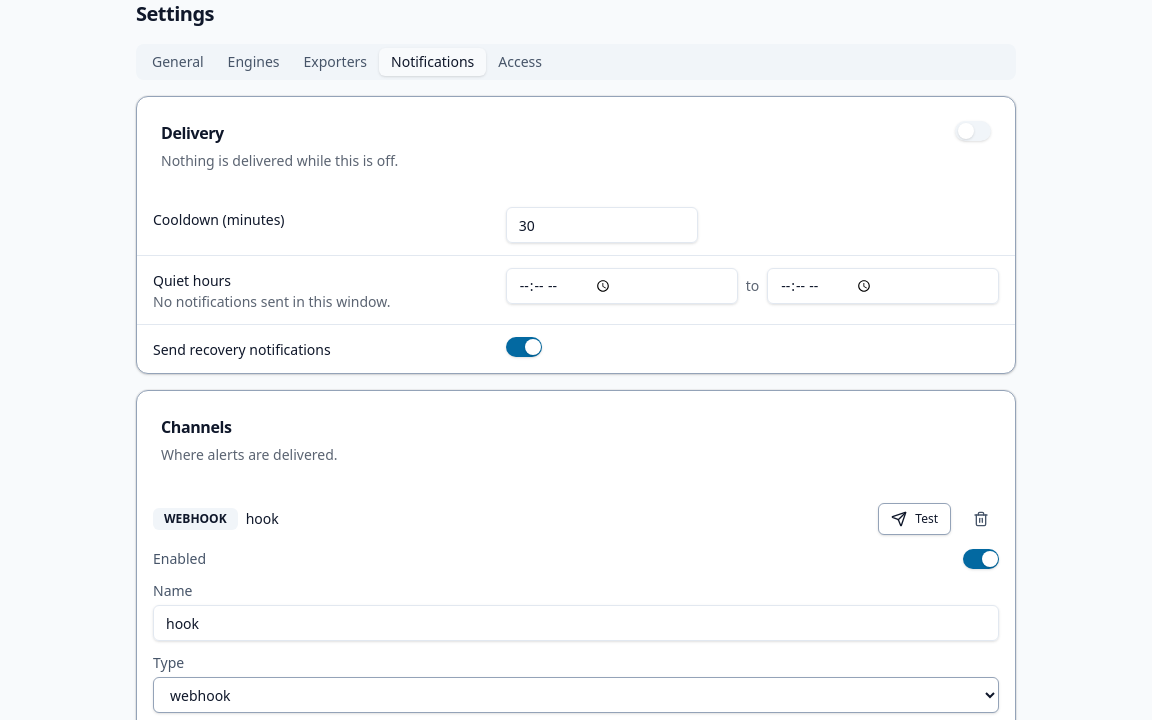
Test: Settings page › shows only the fields the selected channel type uses
This screenshot has width=1152, height=720.
Expected: the field labelled "Apprise URLs" is not shown
Select "apprise" in the dropdown labelled "Type" at (576, 695), box x1=153 y1=677 x2=999 y2=713
(page scrolled)
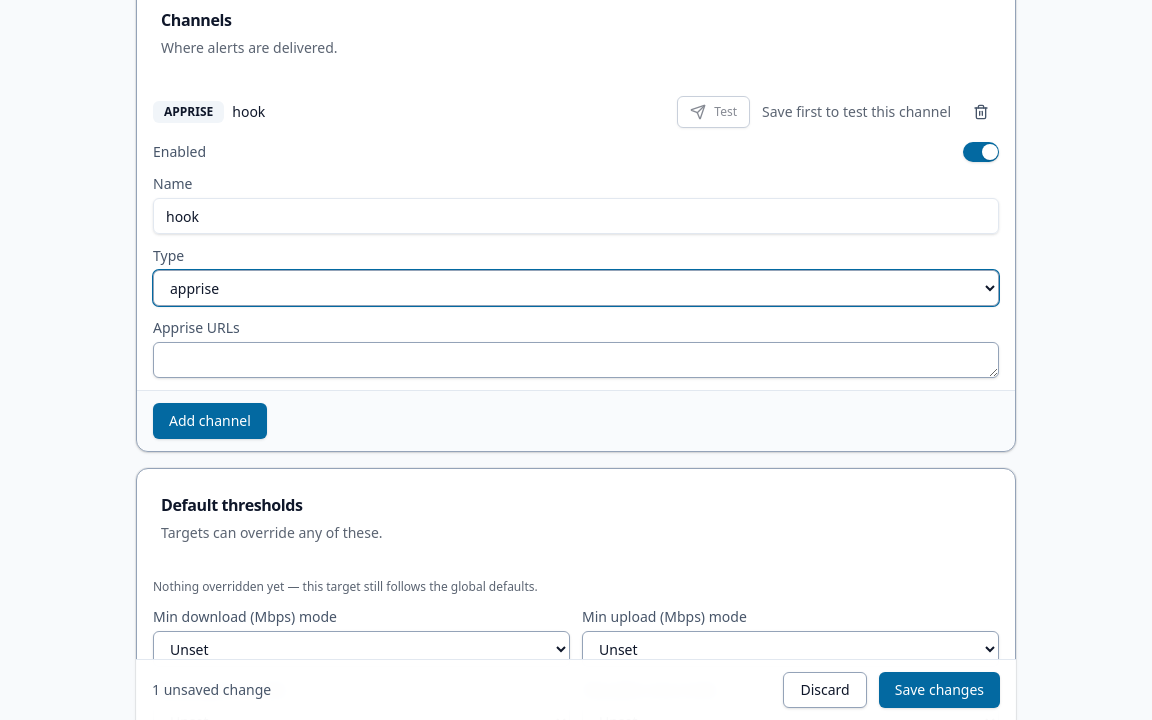
Expected: the text box labelled "Apprise URLs" is shown, x1=153 y1=342 x2=999 y2=378
